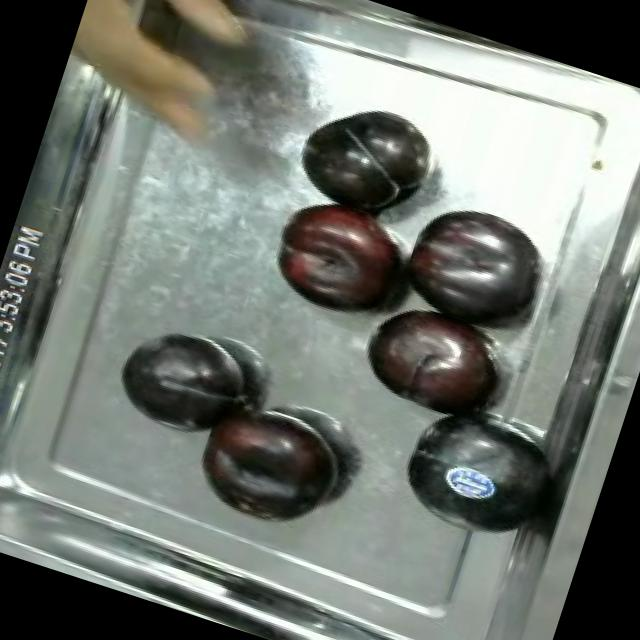Fruit: (378, 389, 574, 560), (383, 186, 562, 346), (344, 286, 522, 442), (255, 180, 427, 336), (284, 84, 446, 232), (184, 389, 354, 529), (106, 315, 266, 452)
